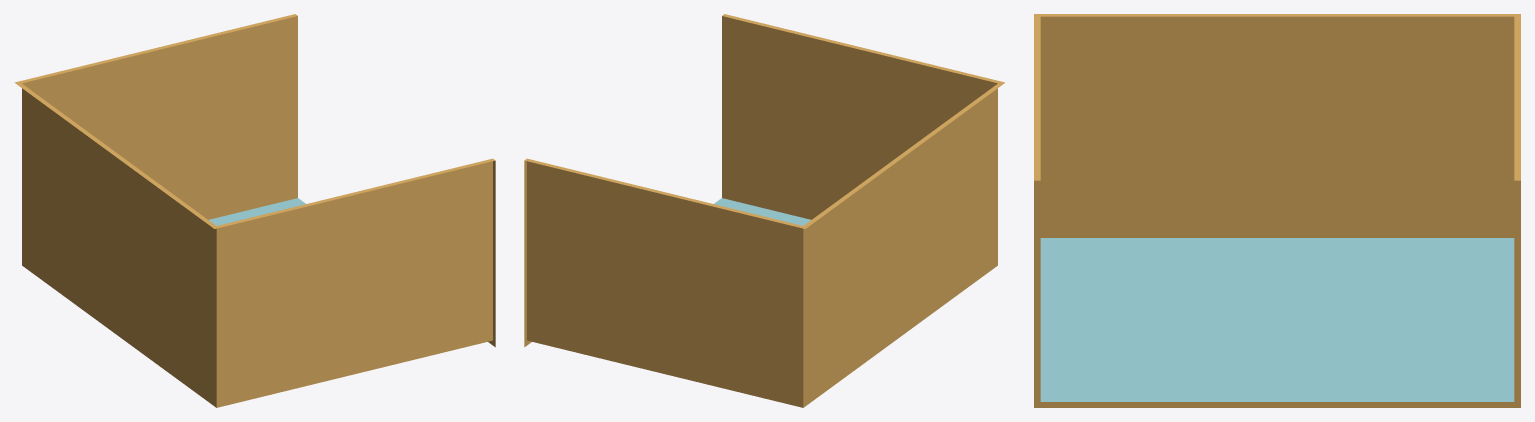
The model's file is walls.fbx.
3 views of the same model, side by side, from view 1: azimuth 30°, elevation 25°; view 2: azimuth 150°, elevation 25°; view 3: azimuth 270°, elevation 25° (orthographic). The views are drawn at different scales.
Parts seen in each view (by area): view 1: Wall; view 2: Wall; view 3: Wall.
Part boxes in pixels (box(x1,y1,x2,y2)): Wall: box(14, 14, 495, 407); Wall: box(524, 14, 1005, 407); Wall: box(1034, 14, 1520, 407).
Size of the model in its own units: 312 by 198 by 385.
